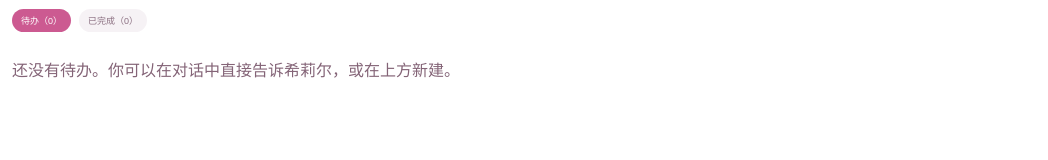
Test: TodoList › shows completed todos with strikethrough and supports search
This screenshot has width=1048, height=160.
Click the tab "已完成（0）". click: coordinates (113, 20)
box: [79,9,147,32]
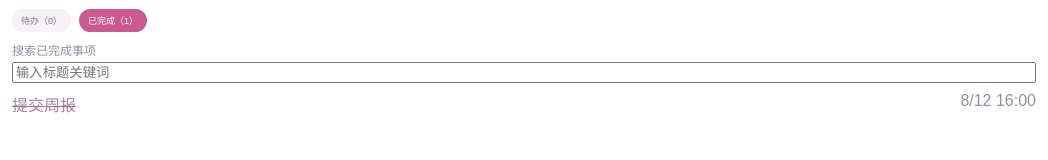
Expected: the text "提交周报" is shown, [12,92,76,116]
Type "不存在的" into the field labelled "搜索已完成事项". click: coordinates (524, 72)
box: [12,62,1036,83]
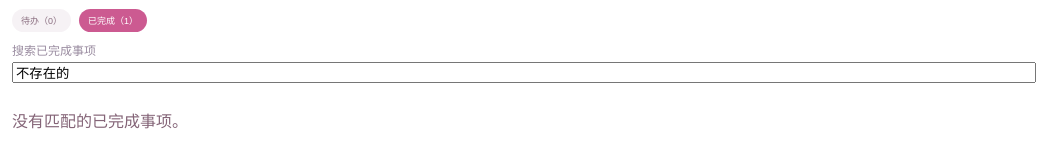
Expected: the text "没有匹配的已完成事项。" is shown, [12,113,188,130]
